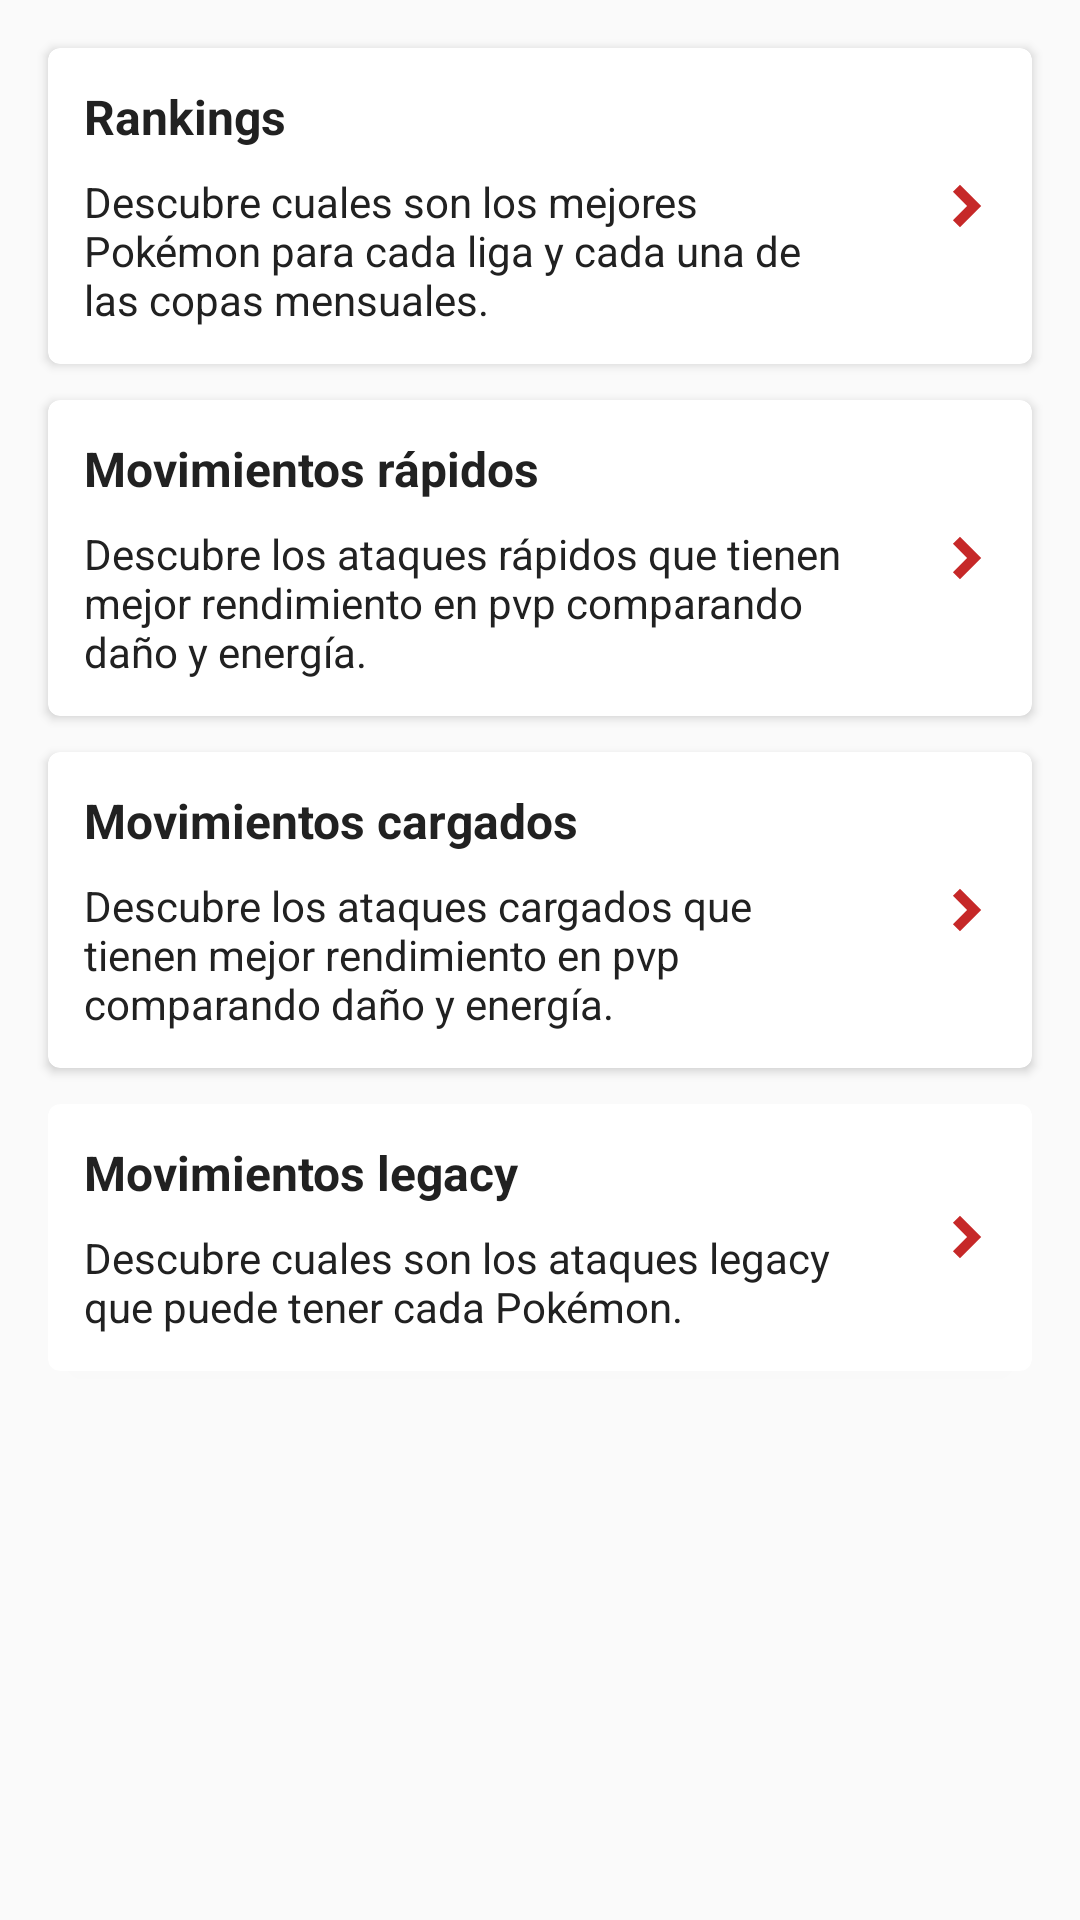

Where icons sit on this 1080px x 1920px app screen, as BBox(x1, y1, x2, y2):
detail arrow: BBox(953, 185, 981, 227), BBox(953, 537, 981, 579), BBox(953, 889, 981, 931), BBox(953, 1216, 981, 1258)
